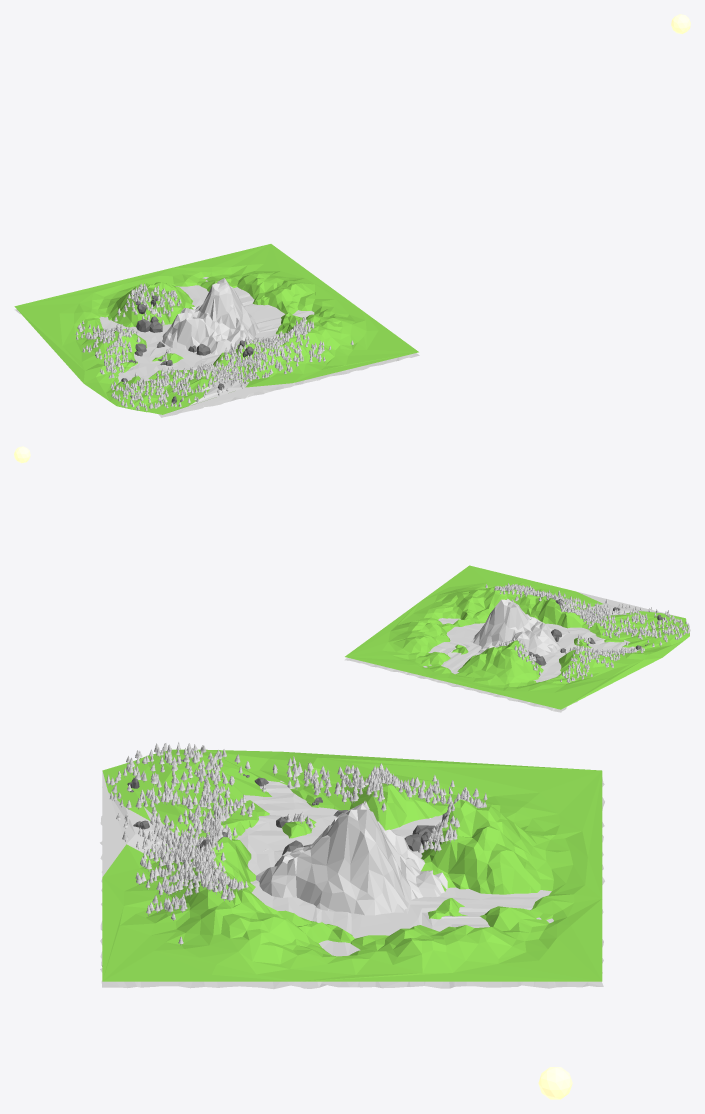
Rendered from low-poly-scenery-hills-and-lake.dae.
The picture shows the model from 3 angles, top to bottom: view 1: azimuth 30°, elevation 25°; view 2: azimuth 150°, elevation 25°; view 3: azimuth 270°, elevation 25°; orthographic projection. The views are drawn at different scales.
Parts seen in each view (by area): view 1: Landscape, water; view 2: Landscape, water; view 3: Landscape, water, sun.
Boxes of the visible parts, x1,y1,x2,y2 form: Landscape: (14, 244, 418, 414); water: (14, 277, 419, 417); Landscape: (345, 565, 689, 709); water: (344, 618, 639, 712); Landscape: (102, 749, 602, 981); water: (100, 777, 604, 989); sun: (538, 1067, 572, 1099).
Bounding box in the file's own units: 6.69 × 2.53 × 1.43.
